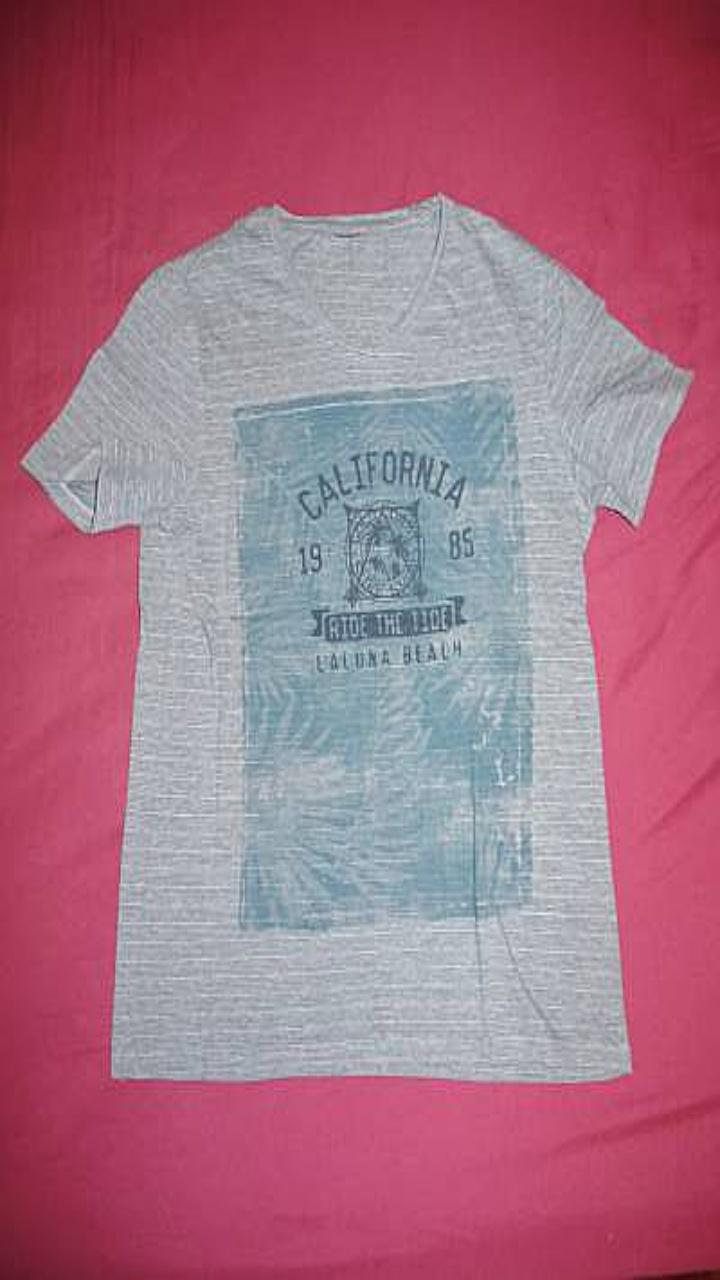T-Shirt: (21, 193, 693, 1080)
